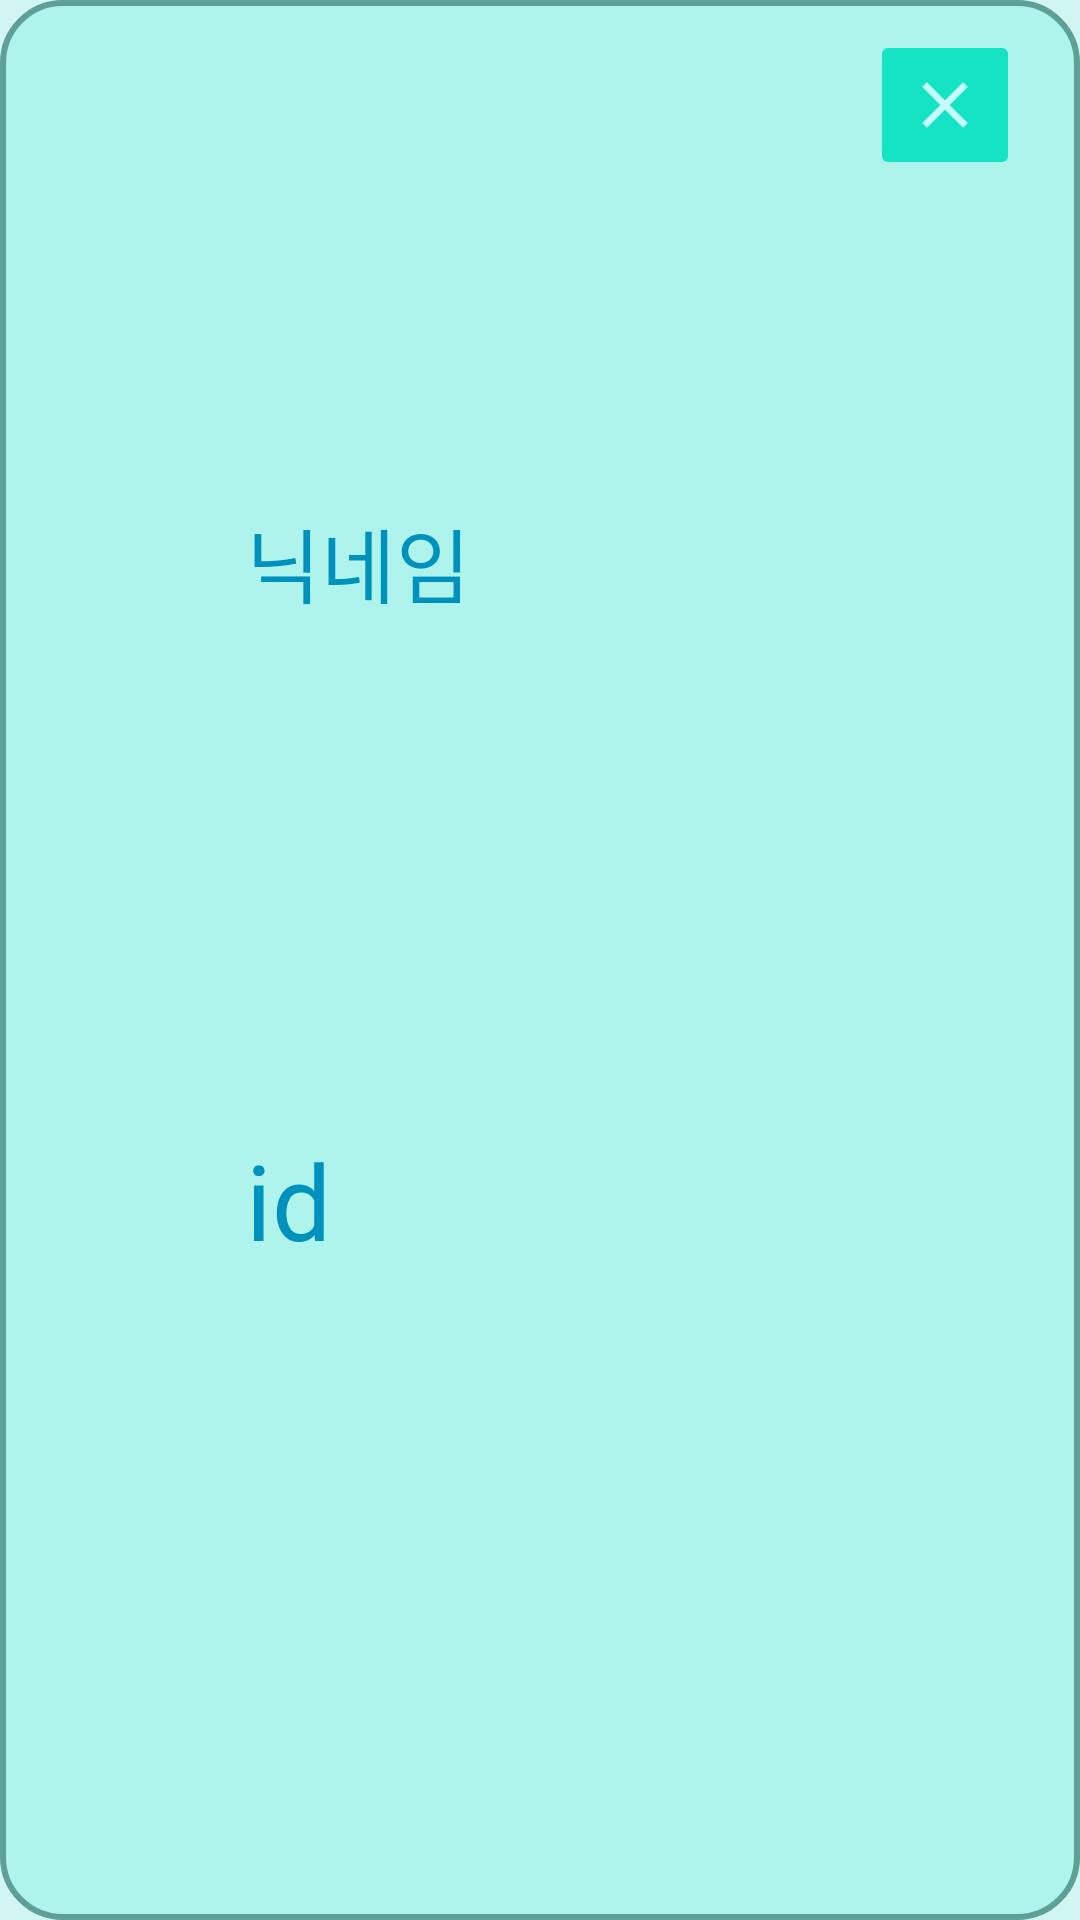

Point at icon controls on the screen. Image size 1080×1920, points as (x,y).
close: (945,105)
